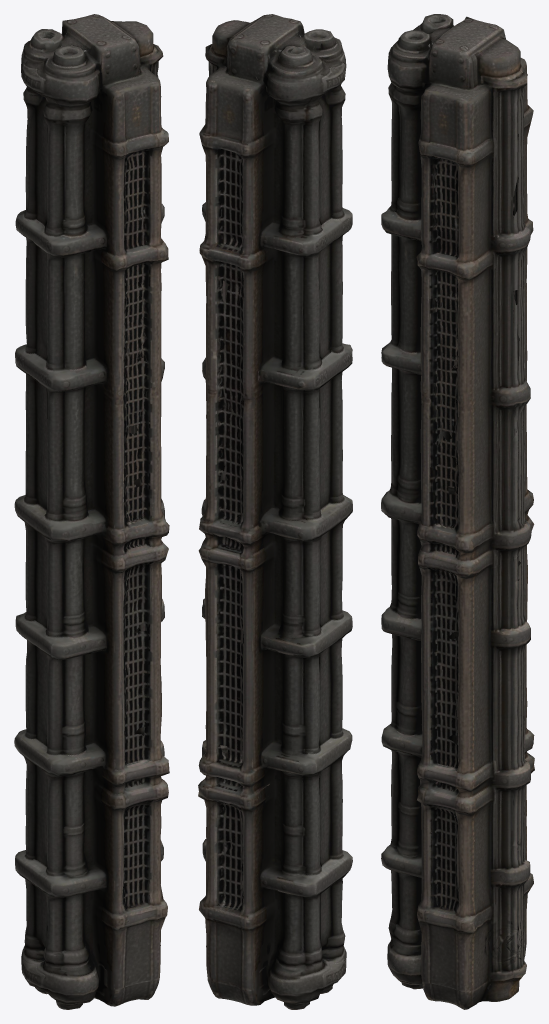
Rendered from industrial+pipe+column+3d+model.glb.
The picture shows the model from 3 angles, left to right: view 1: azimuth 30°, elevation 25°; view 2: azimuth 150°, elevation 25°; view 3: azimuth 330°, elevation 25°; orthographic projection.
Parts seen in each view (by area): view 1: tripo_node_4c8b62fb-2869-4a9f-a830-d321ffceda8f; view 2: tripo_node_4c8b62fb-2869-4a9f-a830-d321ffceda8f; view 3: tripo_node_4c8b62fb-2869-4a9f-a830-d321ffceda8f.
Boxes of the visible parts, x1=… form: tripo_node_4c8b62fb-2869-4a9f-a830-d321ffceda8f: x1=14, y1=14, x2=169, y2=1009; tripo_node_4c8b62fb-2869-4a9f-a830-d321ffceda8f: x1=198, y1=14, x2=352, y2=1009; tripo_node_4c8b62fb-2869-4a9f-a830-d321ffceda8f: x1=381, y1=14, x2=534, y2=1009.
Size of the model in its own units: 0.1453 by 0.9803 by 0.1272.
Materials: 1 (1 with a texture image).
